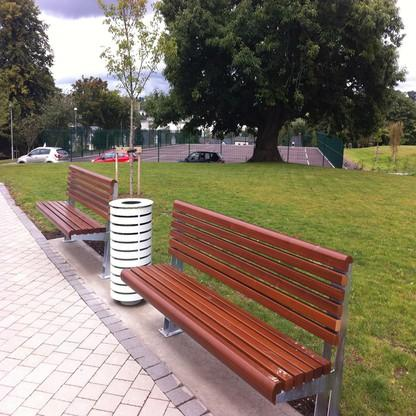obstacle: (126, 194, 374, 414), (42, 156, 112, 258)
